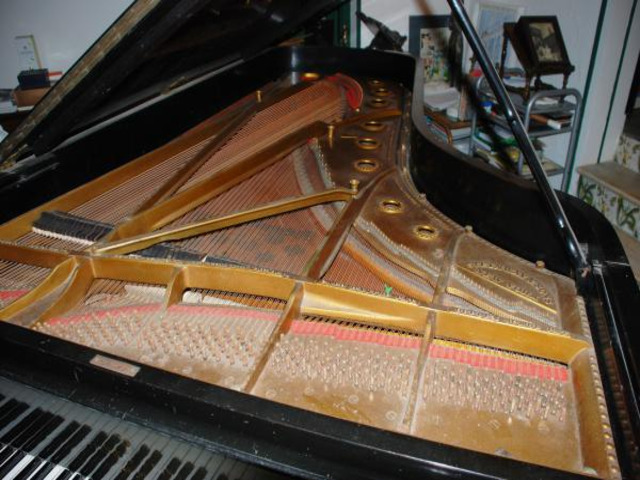Piano: (1, 1, 640, 478)
